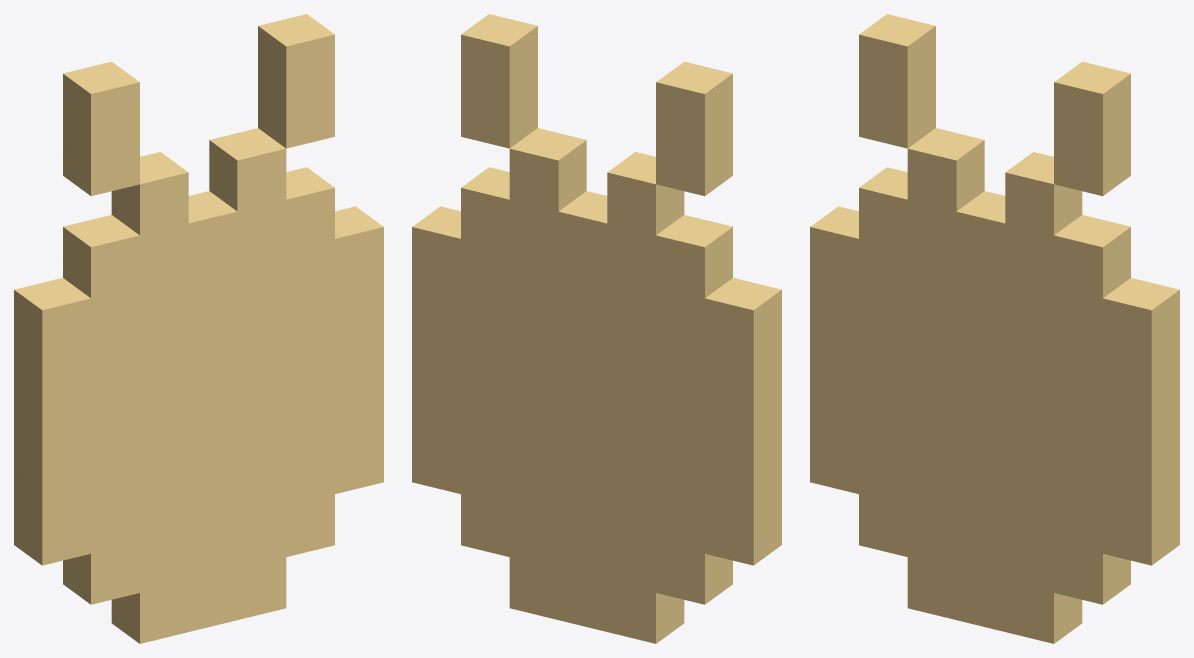
Rendered from BS_Coin_Small_2.fbx.
3 views of the same model, side by side, from view 1: azimuth 30°, elevation 25°; view 2: azimuth 150°, elevation 25°; view 3: azimuth 330°, elevation 25° (orthographic).
Visible parts, largest first — view 1: BS_Coin_Small_2; view 2: BS_Coin_Small_2; view 3: BS_Coin_Small_2.
Boxes of the visible parts, <box> form: BS_Coin_Small_2: <box>14,14,383,643</box>; BS_Coin_Small_2: <box>412,14,781,643</box>; BS_Coin_Small_2: <box>810,14,1179,643</box>.
Bounding box in the file's own units: 17.5 × 2.5 × 27.5.
